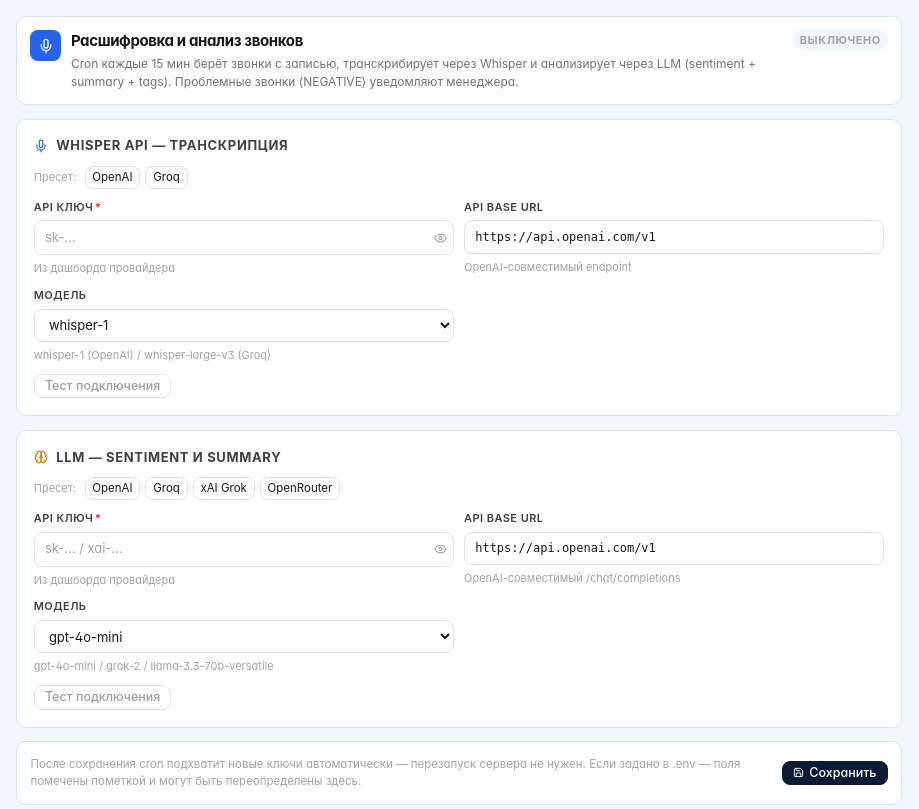
CallAnalysisView — пресеты › клик пресета Groq в Whisper -> подставляет endpoint и модель
The width and height of the screenshot is (919, 809).
Click the button "Groq" below "Whisper API — транскрипция". click: point(166, 177)
box: 145,166 -> 188,189
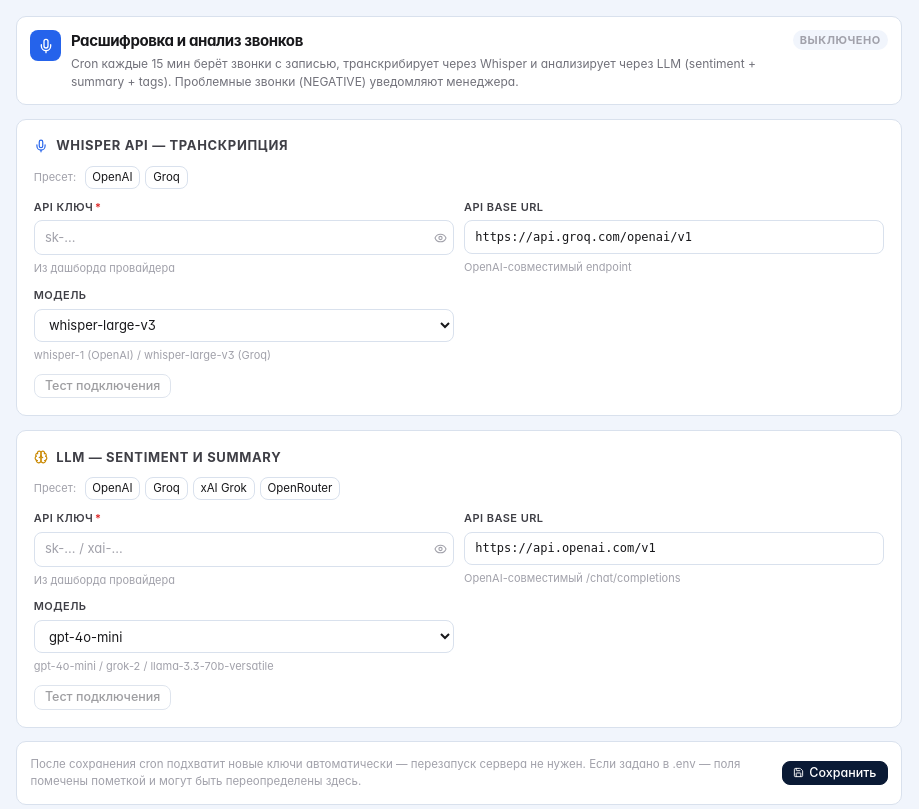
Result: the field showing "https://api.groq.com/openai/v1" below "Whisper API — транскрипция" is shown at 464,220 -> 884,254
Result: the dropdown showing "whisper-large-v3" below "OpenAI-совместимый endpoint" is shown at 34,309 -> 454,342
